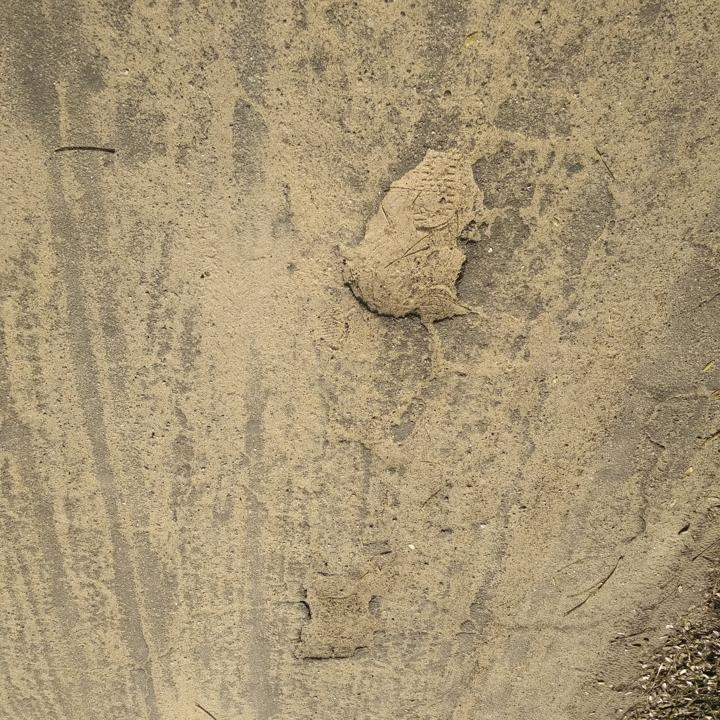pothole: (338, 143, 498, 334), (290, 569, 387, 667)
